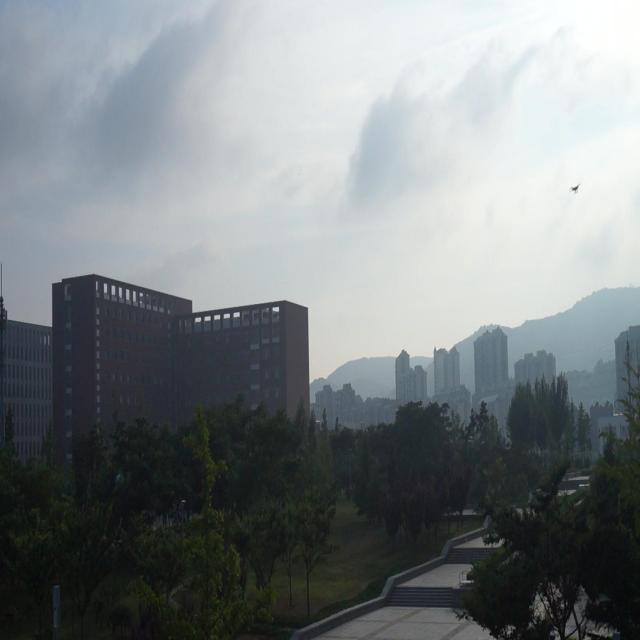UAV: (569, 183, 581, 194)
